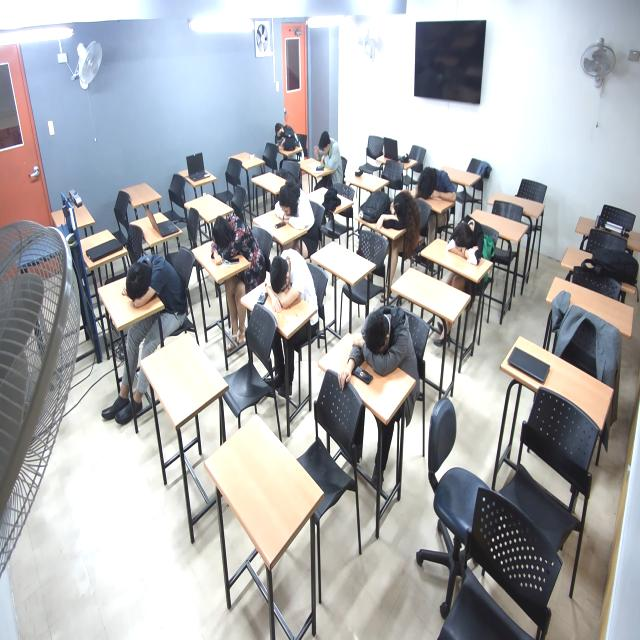sleep: (355, 303, 414, 381), (265, 247, 320, 317), (123, 253, 176, 313), (207, 212, 260, 271), (444, 210, 492, 270), (375, 190, 428, 241), (273, 181, 314, 232), (417, 167, 459, 204), (274, 123, 301, 152)
